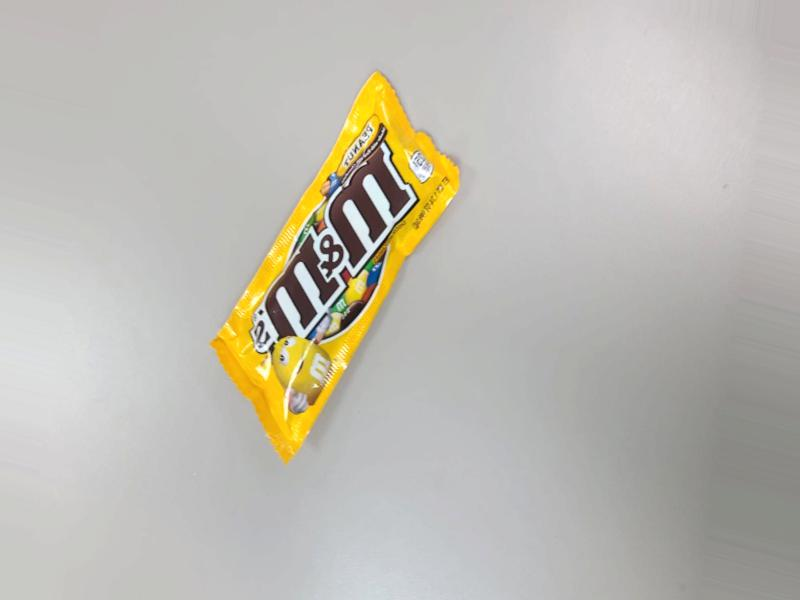m&m: (238, 61, 439, 457)
